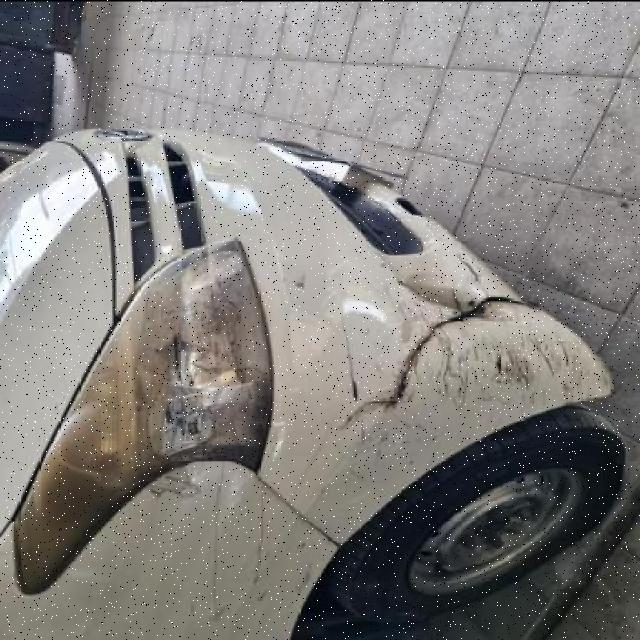damage: (330, 253, 617, 442), (101, 273, 282, 518)
